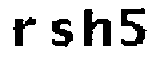5: (117, 5, 149, 50)
h: (81, 6, 113, 52)
r: (12, 14, 37, 51)
s: (47, 17, 75, 50)
